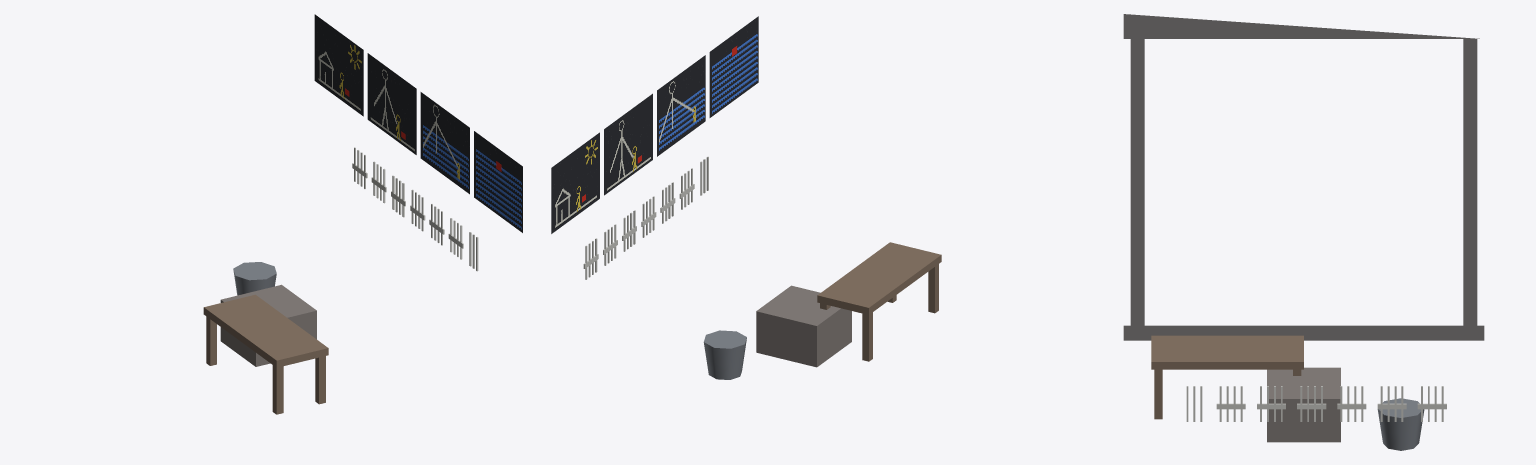
File: cela_giz.glb
3 views of the same model, side by side, from view 1: azimuth 30°, elevation 25°; view 2: azimuth 150°, elevation 25°; view 3: azimuth 270°, elevation 25° (orthographic). The views are drawn at different scales.
Visible parts, largest first — view 1: Malha_0; view 2: Malha_0; view 3: Malha_0.
Boxes of the visible parts, box(x1,y1,x2,y2) form: Malha_0: box(203, 14, 522, 414); Malha_0: box(551, 16, 941, 379); Malha_0: box(1123, 14, 1484, 450).
Size of the model in its own units: 2.8 by 2.6 by 3.14.
6 materials, 4 textured.
